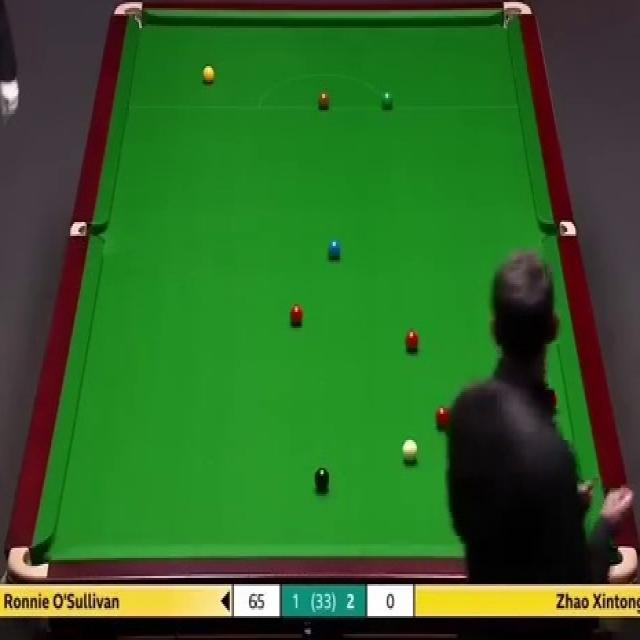black-ball: (316, 468, 329, 490)
blue-ball: (328, 236, 341, 262)
brown-ball: (317, 91, 331, 109)
green-ball: (380, 88, 395, 110)
red-ball: (433, 407, 451, 432), (403, 330, 420, 352), (289, 303, 303, 324)
white-ball: (402, 438, 418, 462)
yellow-ball: (203, 66, 215, 85)
